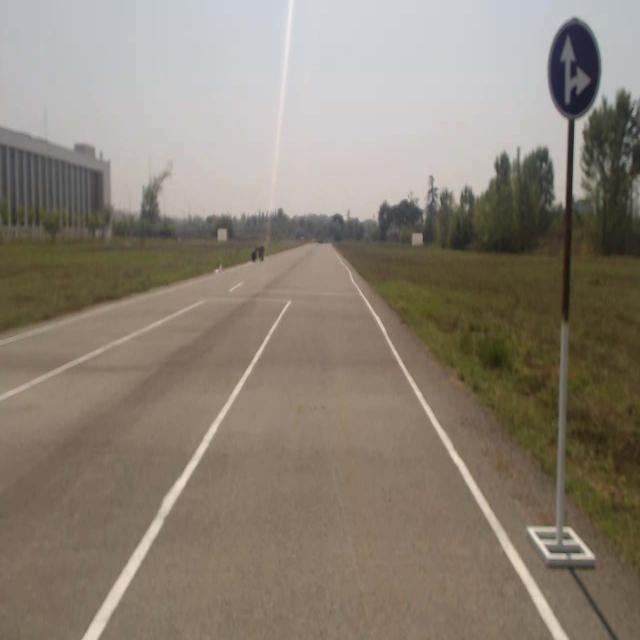ilerisag: (548, 17, 598, 115)
